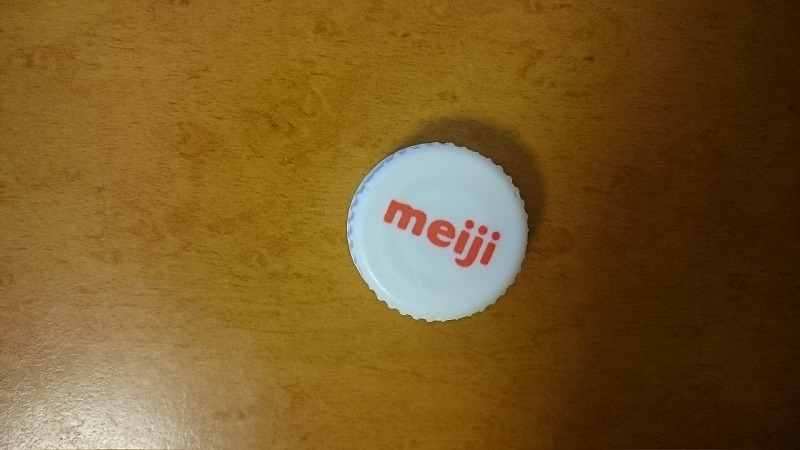B: (340, 138, 534, 327)
